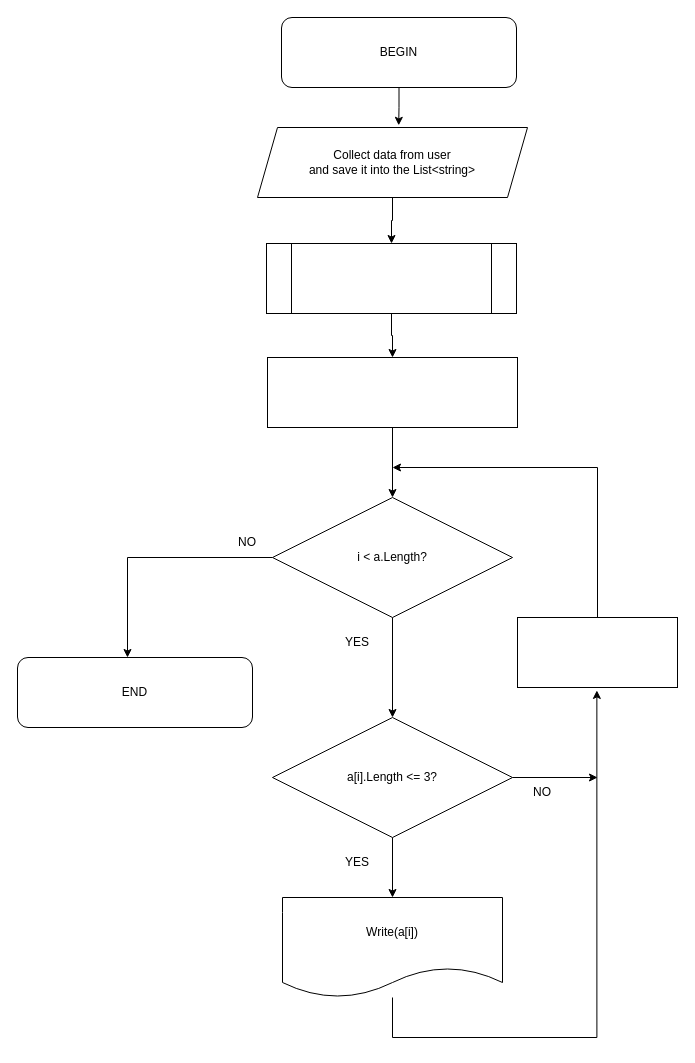
Image size: 695x1063. Some labels were removed from this diagram. Here are the shapes that lost their labels. From the top down, the centre of each, then its label:
the point at 391,278: Convert List to Array "a"
the point at 392,392: i = 0;
the point at 597,652: i++
